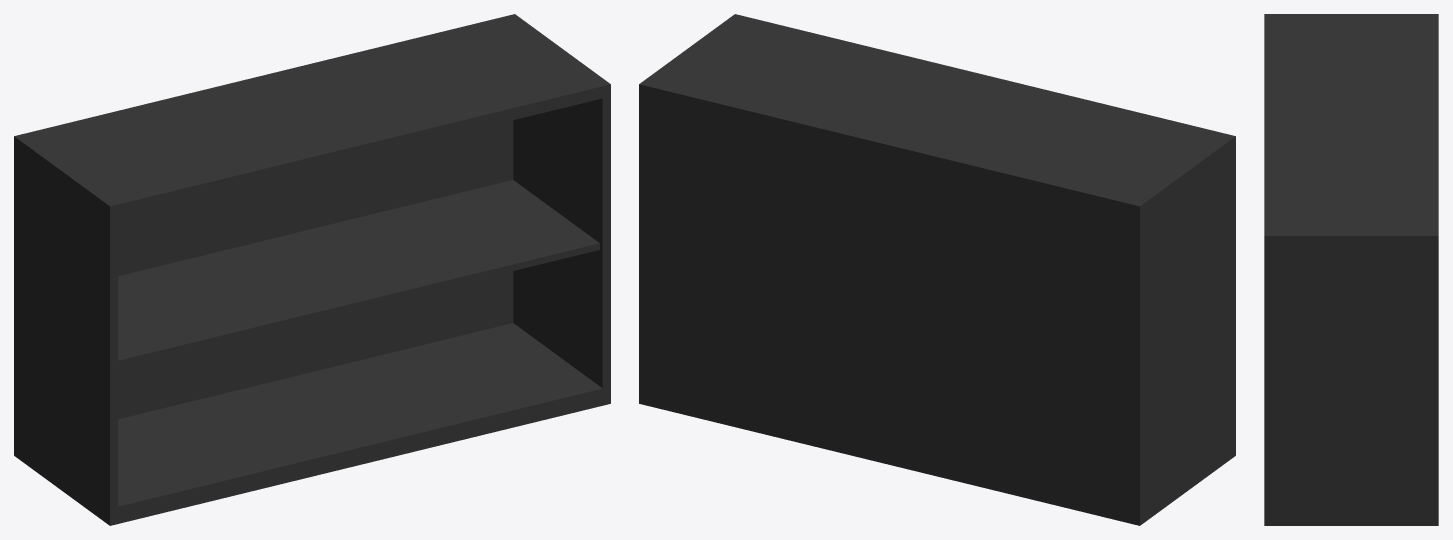
Rendered from Expositor_2x1_B.obj.
3 renders of one model, left to right at view 1: azimuth 30°, elevation 25°; view 2: azimuth 150°, elevation 25°; view 3: azimuth 270°, elevation 25°, orthographic. The views are drawn at different scales.
Visible parts, largest first — view 1: Expositor_2x1_B; view 2: Expositor_2x1_B; view 3: Expositor_2x1_B.
Part boxes in pixels (x1,y1,x2,y2): Expositor_2x1_B: [14, 14, 610, 525]; Expositor_2x1_B: [639, 14, 1235, 525]; Expositor_2x1_B: [1264, 14, 1438, 525].
Bounding box in the file's own units: 1.37 × 0.8324 × 0.4532.
